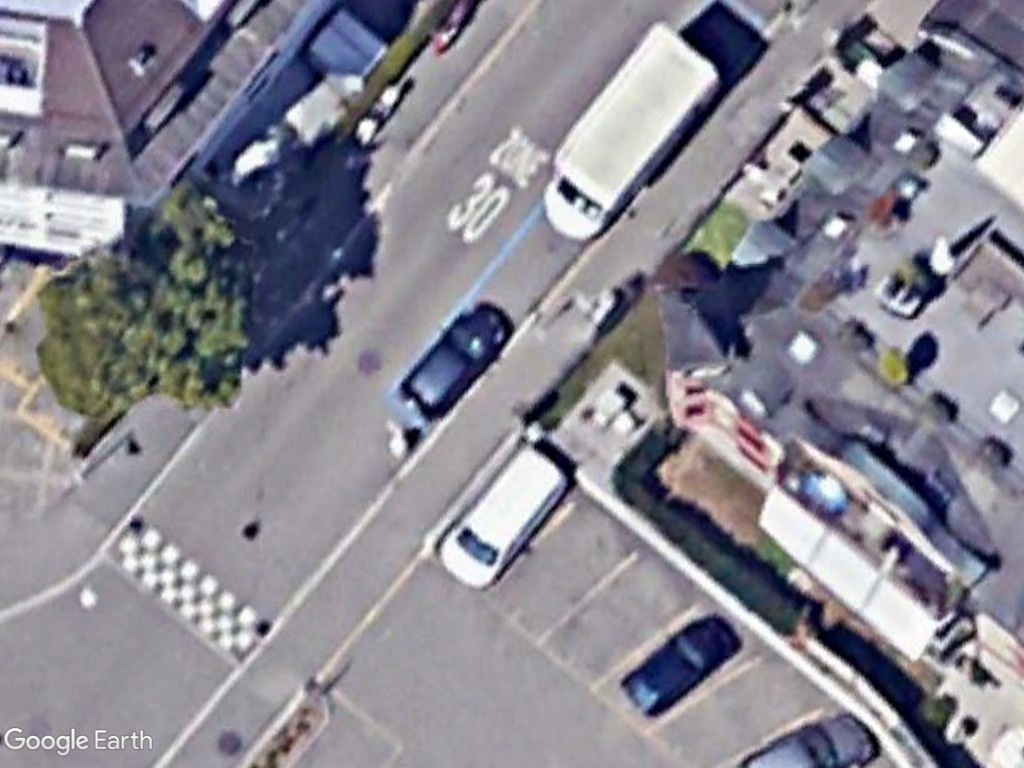car: (384, 306, 510, 439), (618, 612, 740, 720)
truck: (537, 19, 726, 248)
van: (430, 440, 568, 590)
